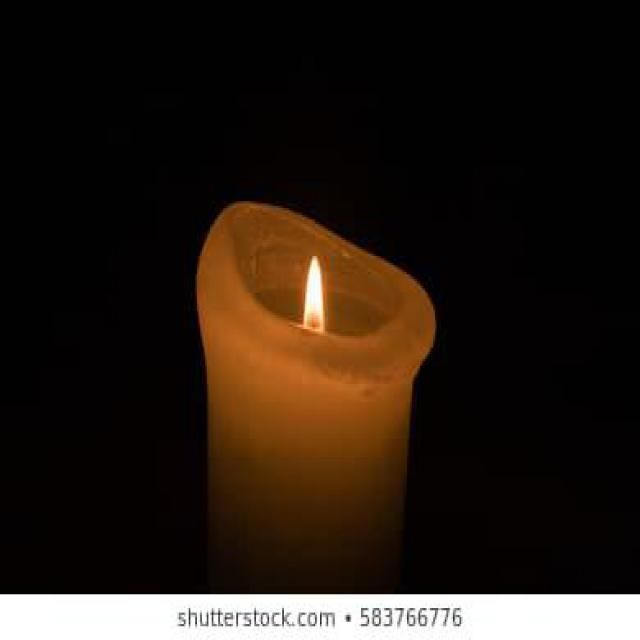Fire: (304, 255, 326, 332)
